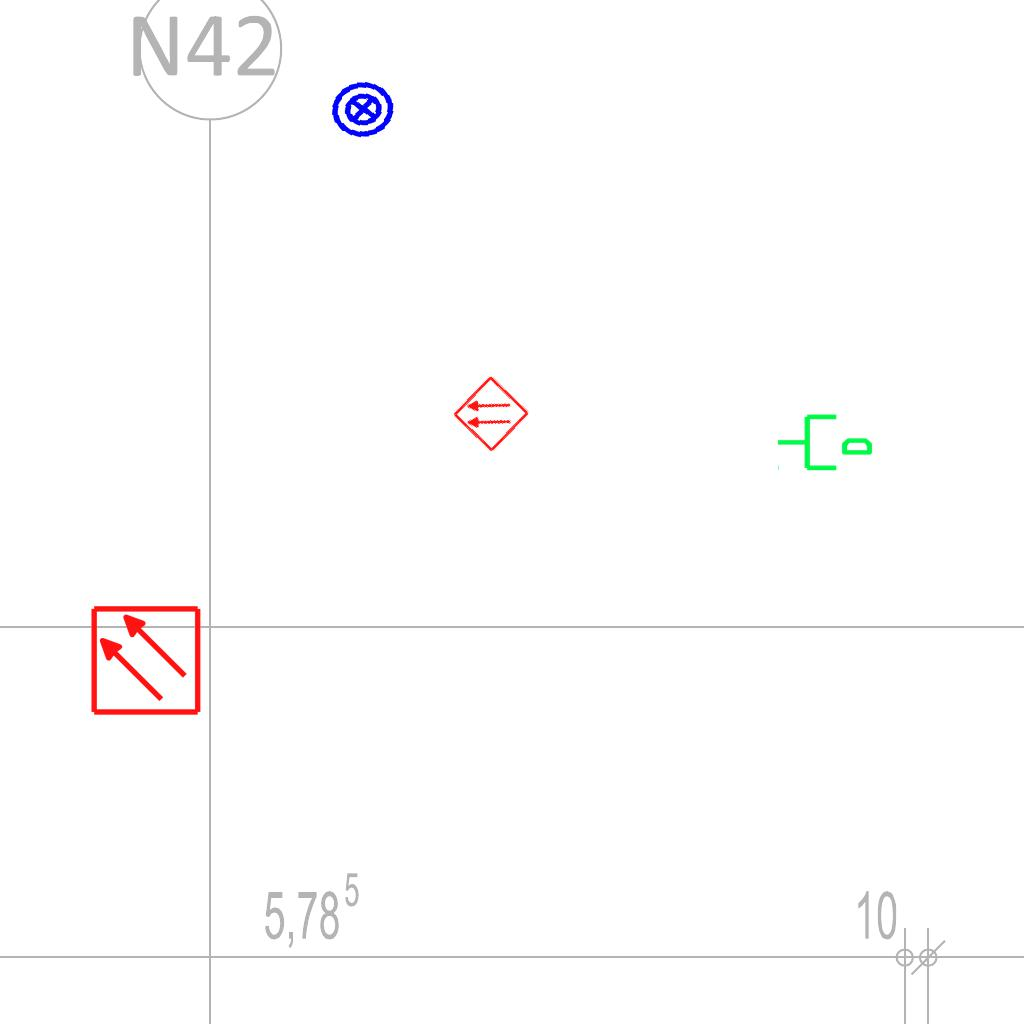Datenanschluss_einfach: (775, 406, 875, 475)
RMO_Rauchmelder_optischer: (89, 604, 202, 717), (451, 374, 531, 454)
Taster_beleuchtet: (326, 72, 400, 146)
